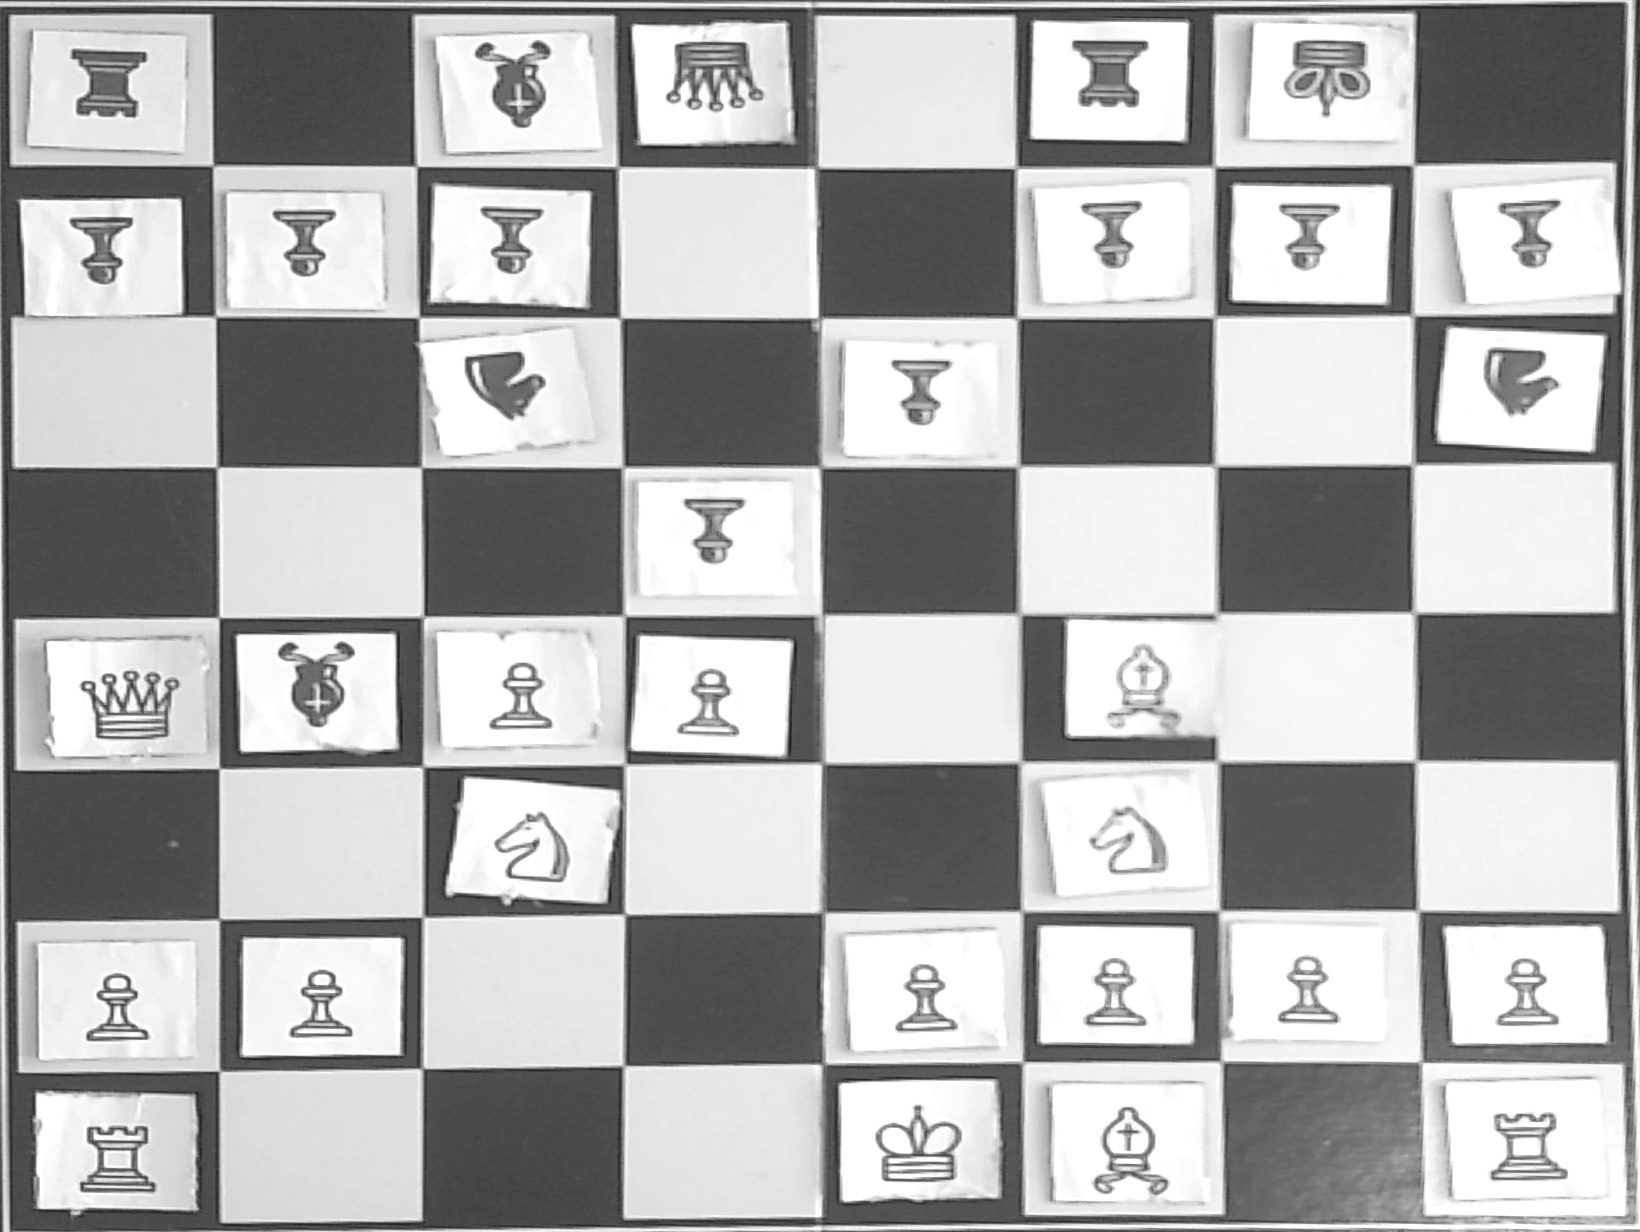b_bishop: (447, 38, 592, 148), (239, 635, 384, 745)
b_king: (1265, 30, 1390, 140)
b_knight: (443, 342, 564, 443), (1460, 338, 1582, 439)
b_pawn: (448, 195, 571, 300), (1048, 185, 1171, 290), (858, 348, 982, 452), (656, 490, 781, 594)
b_queen: (652, 28, 784, 132)
b_rook: (1045, 23, 1179, 126), (43, 38, 176, 138)
w_bishop: (1067, 1097, 1188, 1202), (1082, 630, 1202, 734)
w_king: (854, 1084, 977, 1194)
w_knight: (1067, 788, 1190, 886), (472, 798, 595, 896)
w_pawn: (453, 641, 575, 740), (1247, 934, 1368, 1034), (1056, 942, 1179, 1040)
w_queen: (60, 647, 192, 745)
w_rook: (54, 1097, 173, 1204), (1470, 1090, 1590, 1194)
